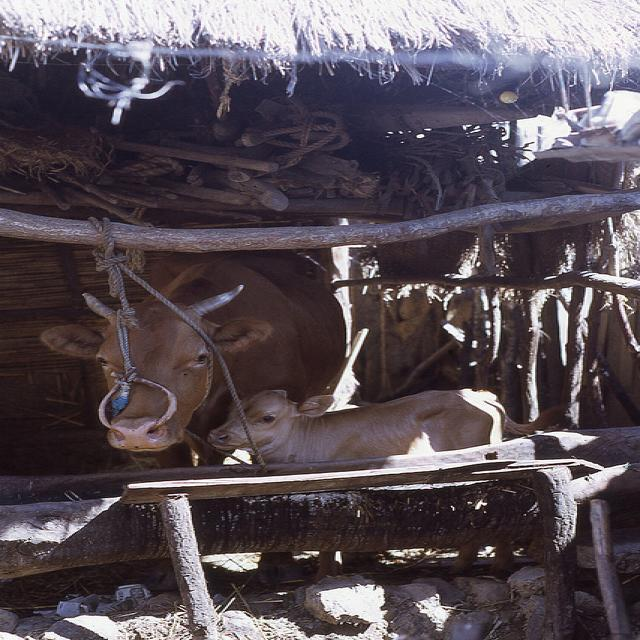cow: (37, 247, 345, 467), (207, 386, 504, 463)
